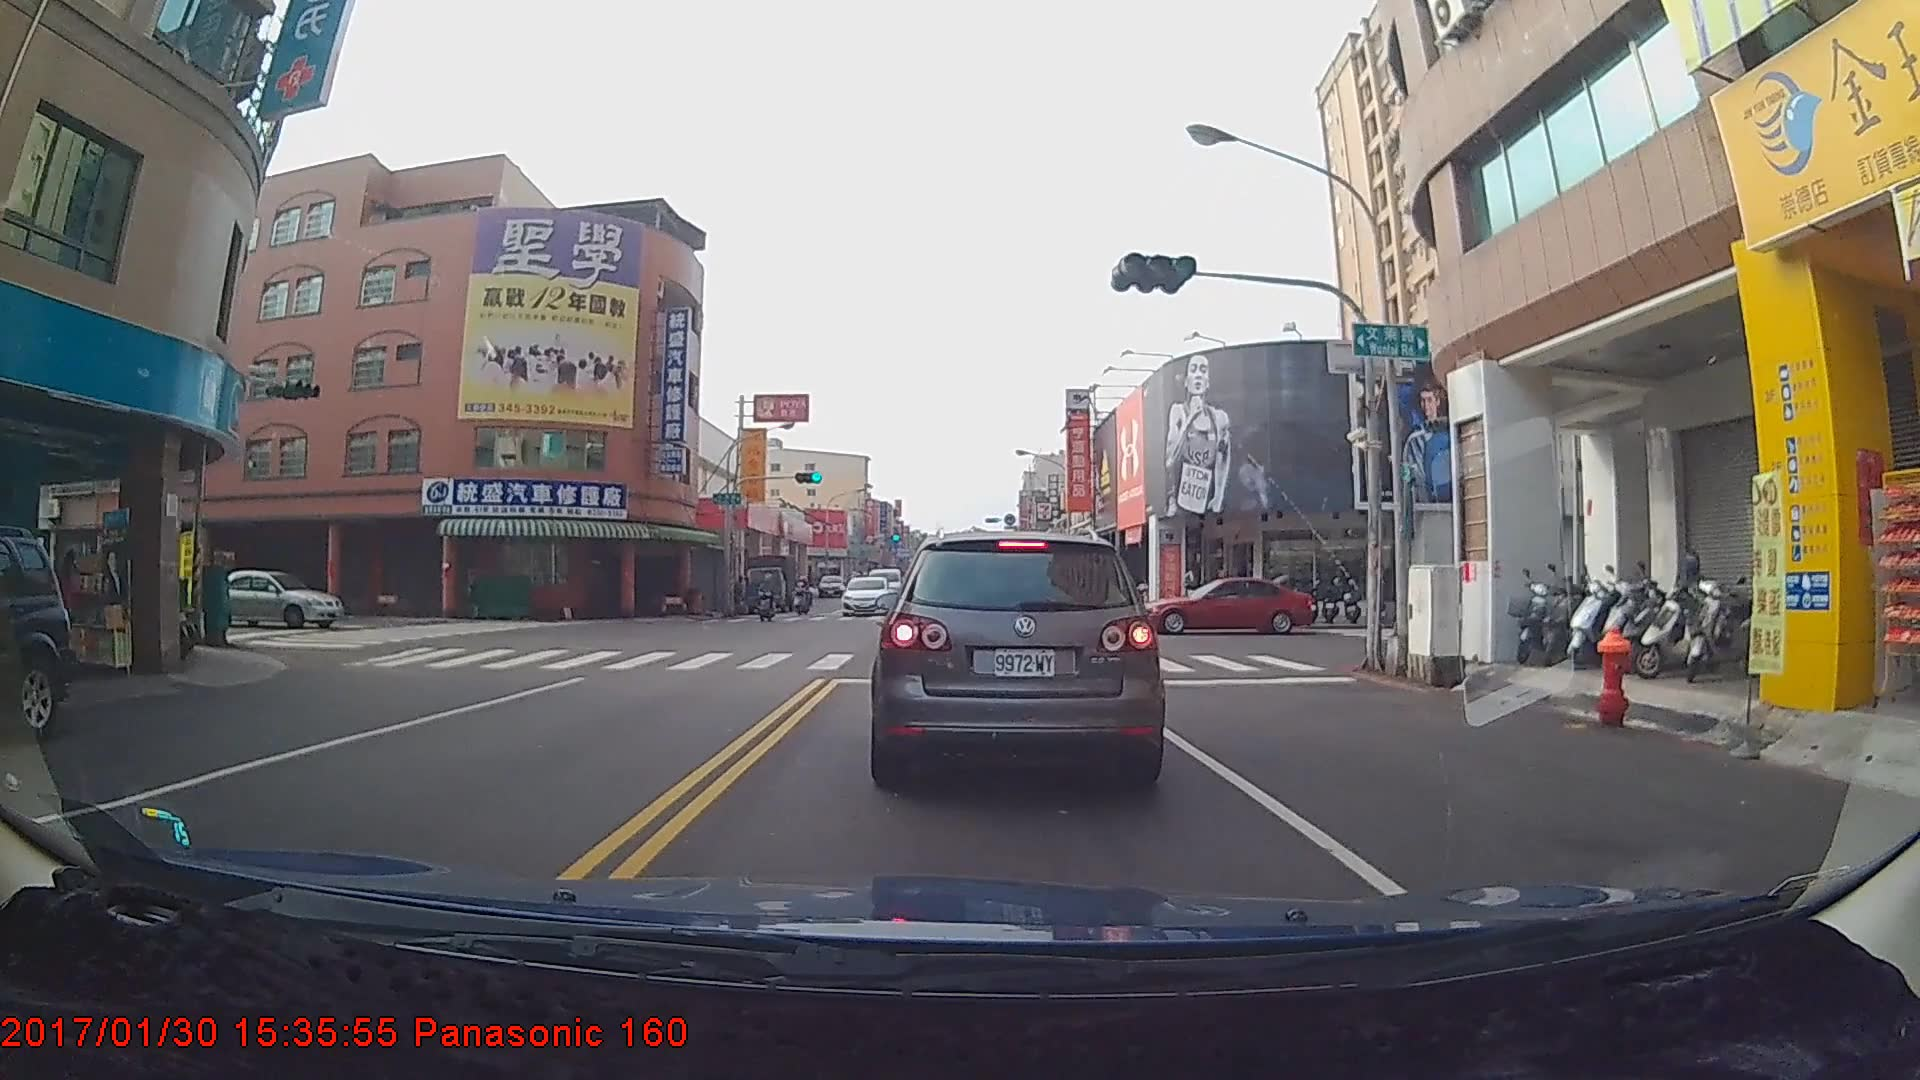rider: (749, 572, 786, 627), (790, 579, 818, 622)
vehicle: (874, 525, 1163, 788), (0, 530, 74, 736), (1141, 575, 1317, 634), (190, 566, 341, 628), (742, 552, 797, 611), (839, 575, 891, 617)
